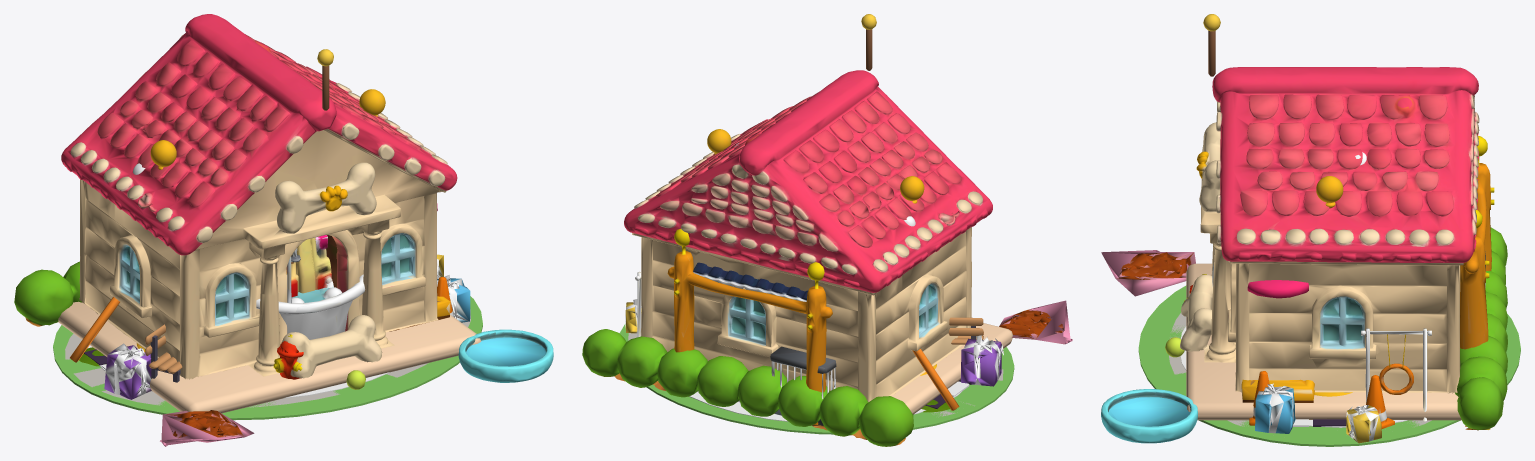
Rendered from buildings.c899c3fe.glb.
3 views of the same model, side by side, from view 1: azimuth 30°, elevation 25°; view 2: azimuth 150°, elevation 25°; view 3: azimuth 270°, elevation 25° (orthographic). The views are drawn at different scales.
Parts seen in each view (by area): view 1: Palace, Park, Catcher, Start, Bath; view 2: Palace, Park, Start, Catcher, Bath; view 3: Palace, Park, Start, Catcher.
Boxes of the visible parts, x1,y1,x2,y2 form: Palace: (14,14,553,446); Park: (53,203,482,420); Catcher: (65,237,470,407); Start: (84,89,470,399); Bath: (87,250,390,398); Palace: (582,14,1072,446); Park: (619,229,1014,434); Start: (625,129,1003,408); Catcher: (628,333,1003,425); Bath: (689,262,969,421); Palace: (1101,14,1507,443); Park: (1138,136,1520,446); Start: (1255,152,1381,443); Catcher: (1169,251,1485,428).
Bounding box in the file's own units: 6.2 × 5.18 × 5.71.
Materials: 18 (4 with a texture image).
